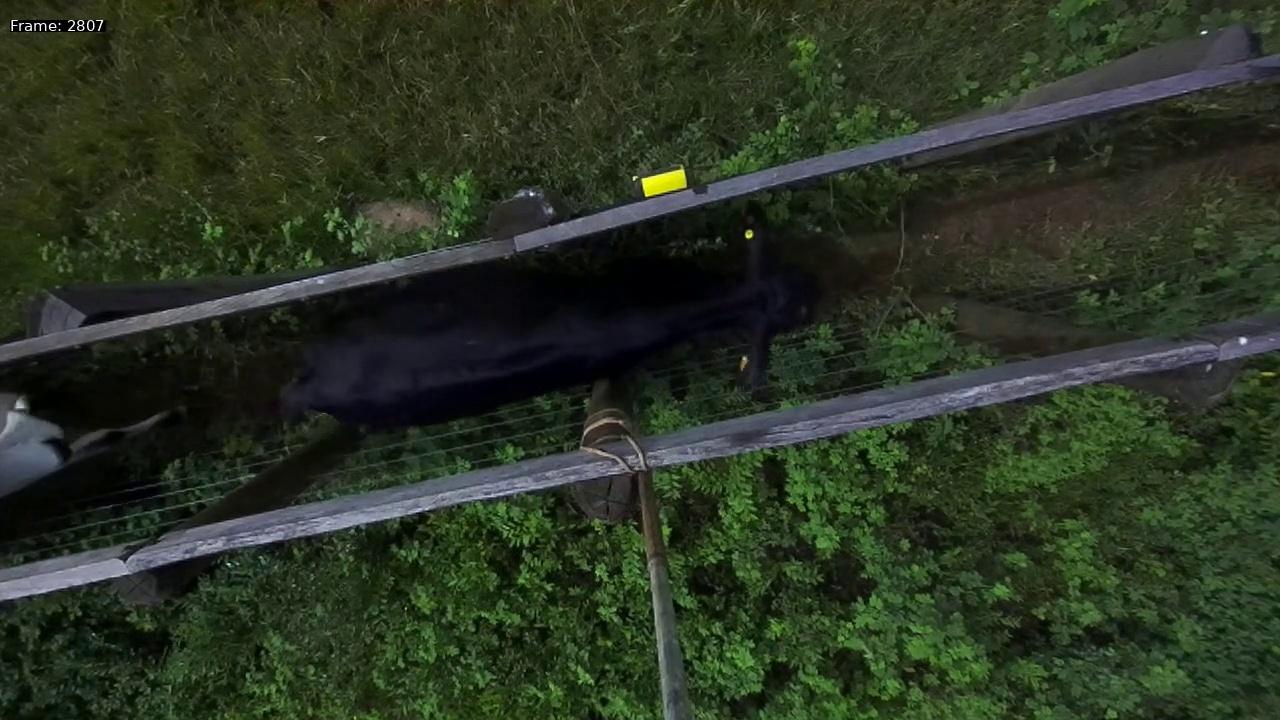cattle: (270, 187, 842, 430)
